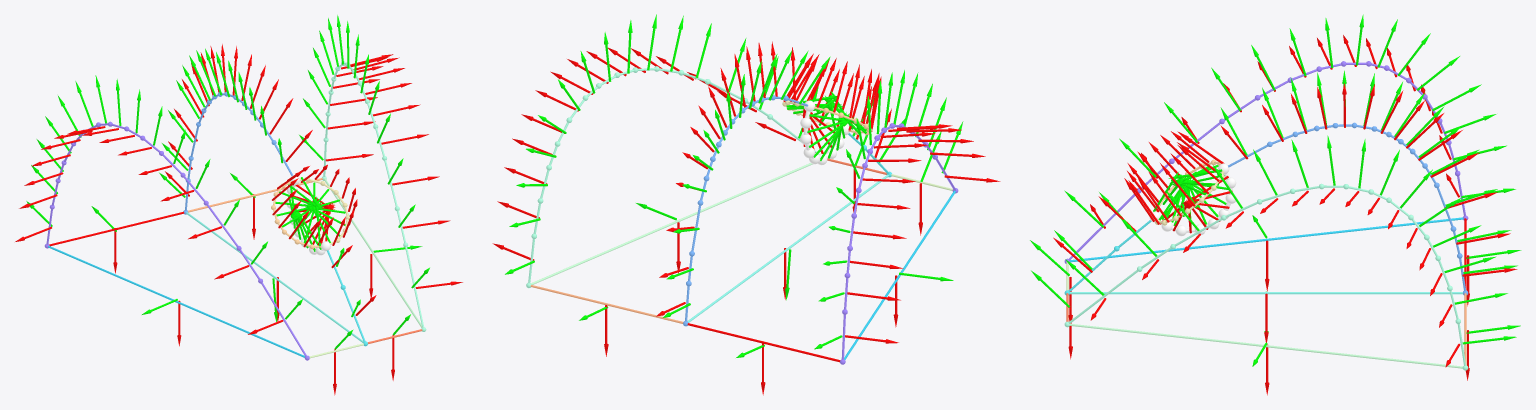
The model's file is onshape_simple_mouse.gltf.
3 views of the same model, side by side, from view 1: azimuth 30°, elevation 25°; view 2: azimuth 150°, elevation 25°; view 3: azimuth 270°, elevation 25° (orthographic). The views are drawn at different scales.
Size of the model in its own units: 0.8163 by 0.526 by 0.8729.
